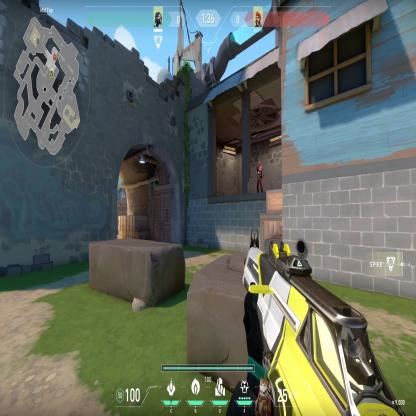enemy: (256, 160, 264, 194)
